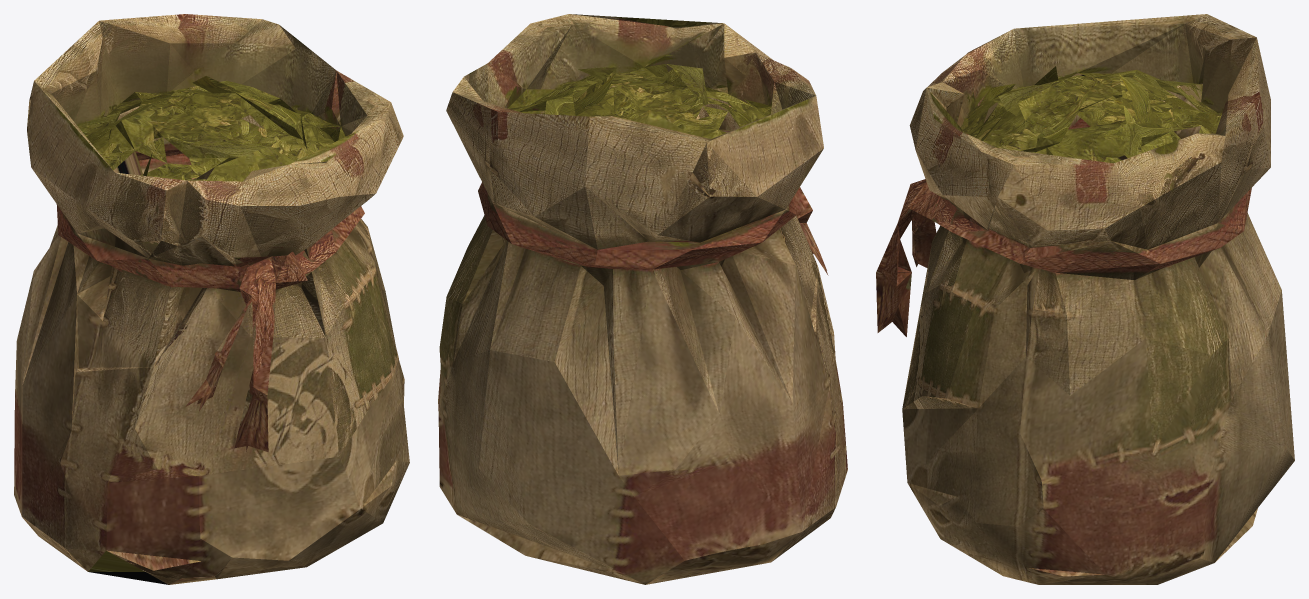
The model's file is greenfruit-tea.glb.
3 renders of one model, left to right at view 1: azimuth 30°, elevation 25°; view 2: azimuth 150°, elevation 25°; view 3: azimuth 270°, elevation 25°, orthographic. The views are drawn at different scales.
Parts seen in each view (by area): view 1: output_unwrapped; view 2: output_unwrapped; view 3: output_unwrapped.
Part boxes in pixels (bbox=[...]): output_unwrapped: bbox=[14, 14, 409, 584]; output_unwrapped: bbox=[438, 14, 847, 584]; output_unwrapped: bbox=[876, 14, 1294, 584].
Bounding box in the file's own units: 1.51 × 1.88 × 1.53.
1 material, 1 textured.
